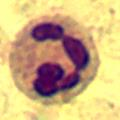neutrophil: (10, 12, 99, 106)
